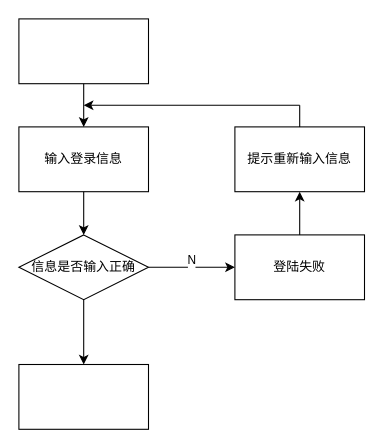
Some shapes in this 383 by 448 pixel diagram are drawn without their labels. Here are the shapes that lost their labels. From the top down, the centre of each, then its label:
At (x=83, y=51): "用户登录界面".
At (x=83, y=396): "登陆成功".
